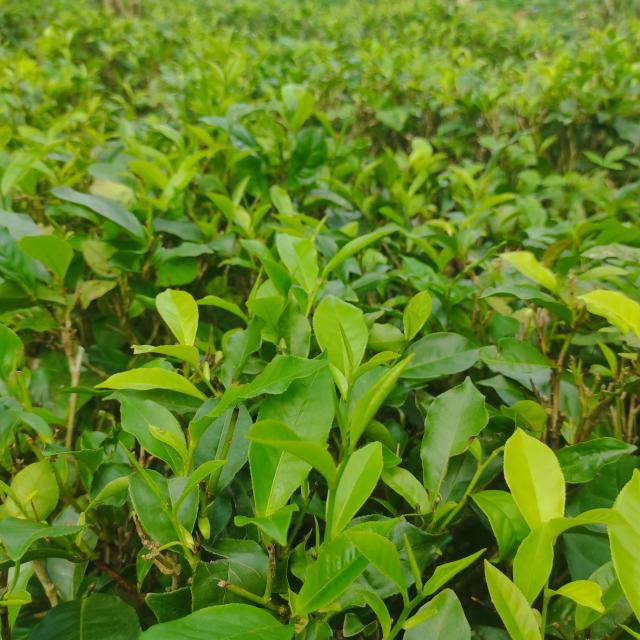unopened_leaf: (115, 437, 182, 527), (401, 527, 427, 600), (331, 316, 361, 378)
